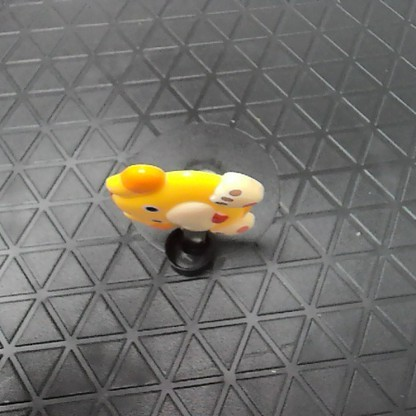dogclip: (101, 160, 265, 248)
